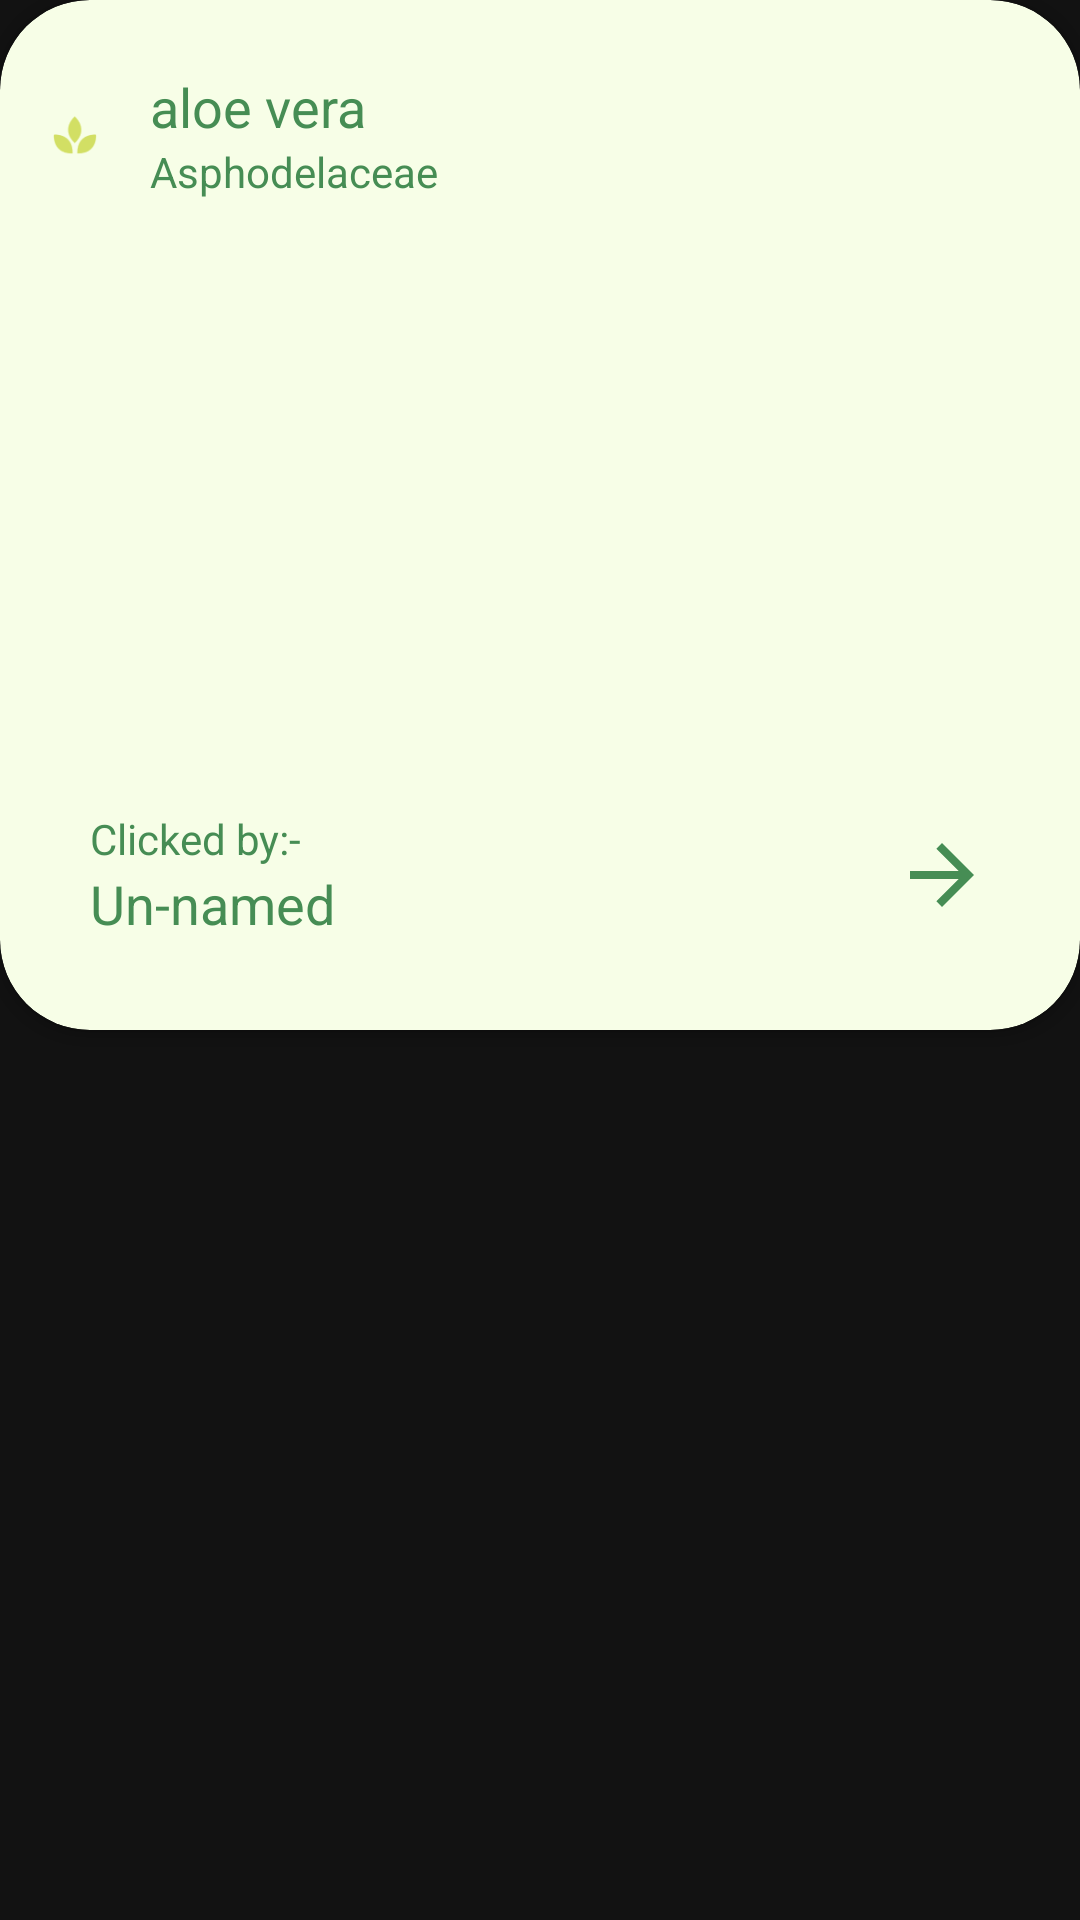

Icon bounding boxes for this 1080w x 1920h phone screenshot, format (x1, y1, x2, y2):
draw forwrd arrow: (910, 843, 974, 907)
